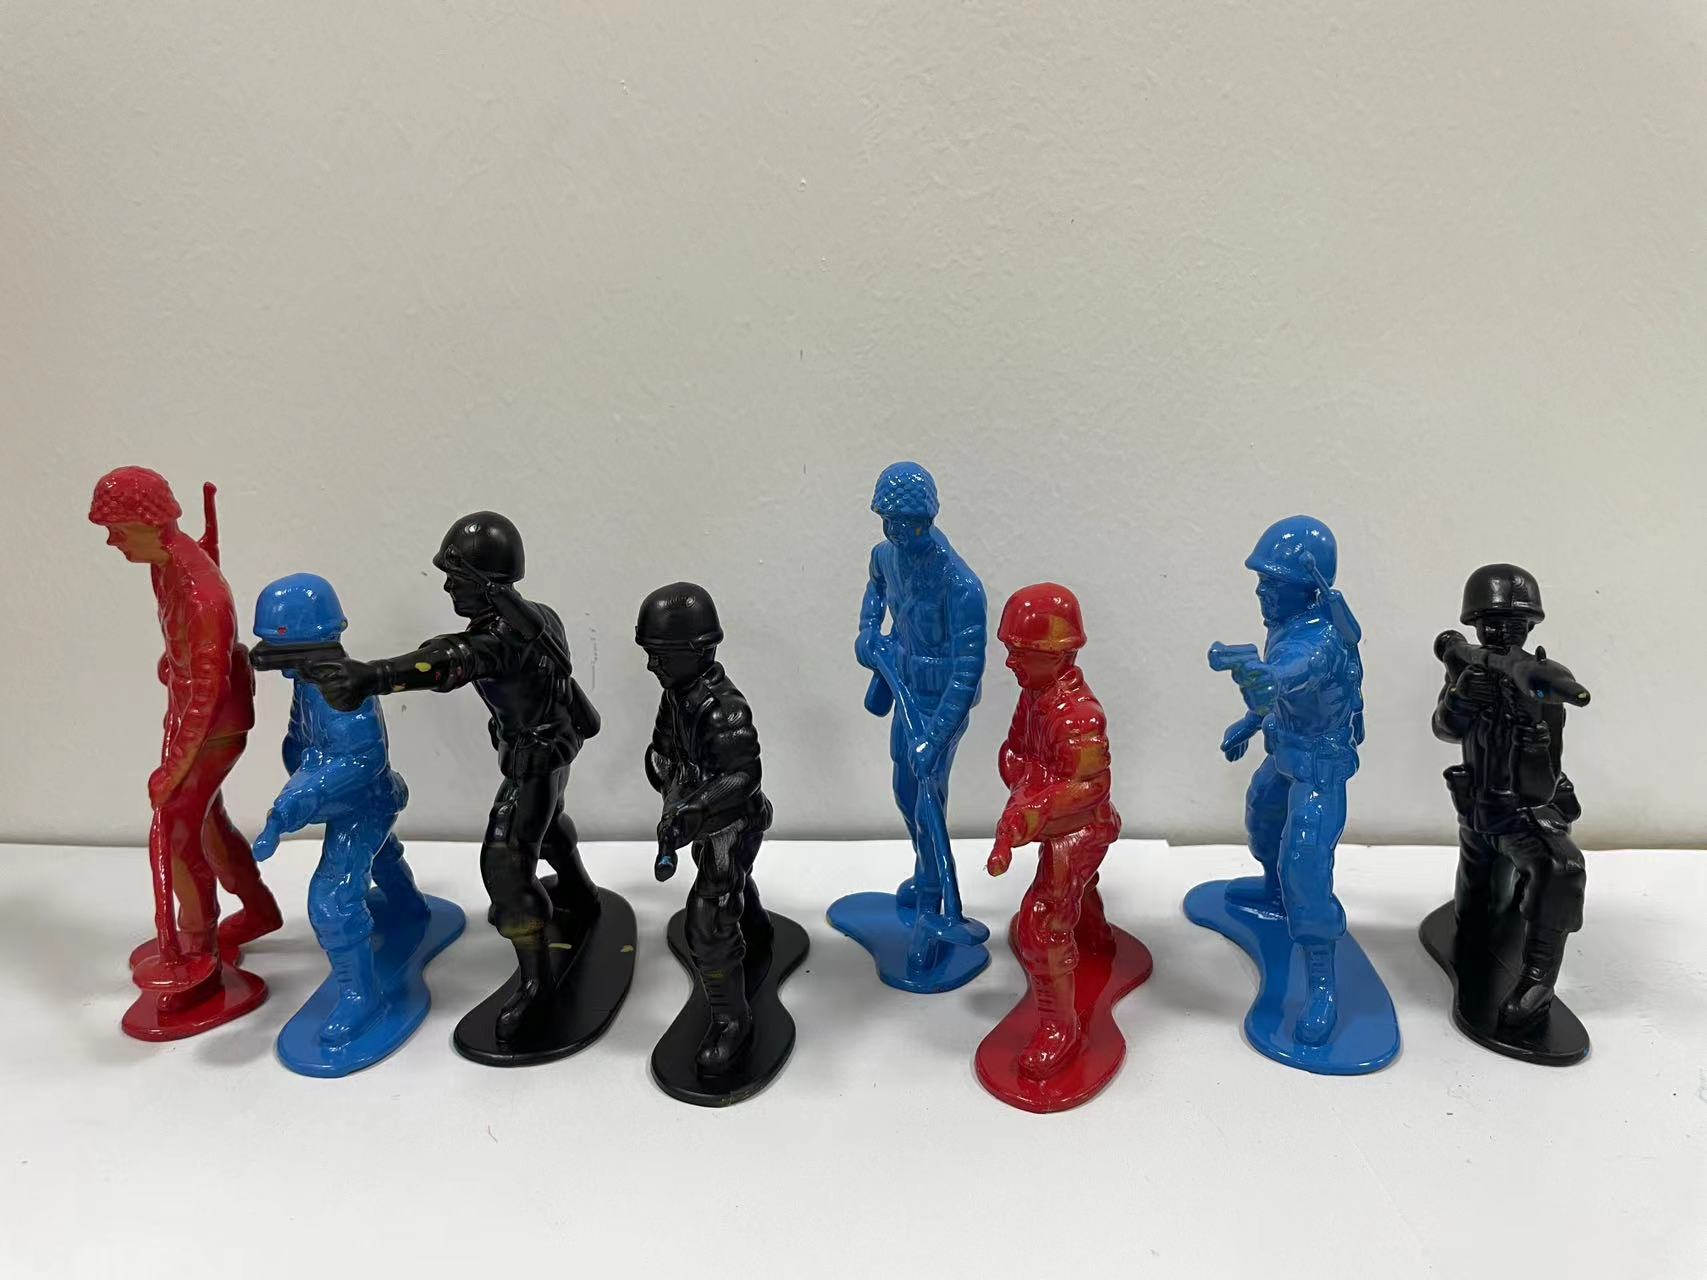black: (391, 454, 629, 1089), (1409, 545, 1620, 1070), (630, 546, 827, 1111)
blue: (1190, 500, 1397, 1076), (253, 553, 460, 1094), (829, 411, 1000, 994)
red: (67, 433, 262, 1043), (970, 582, 1169, 1121)
